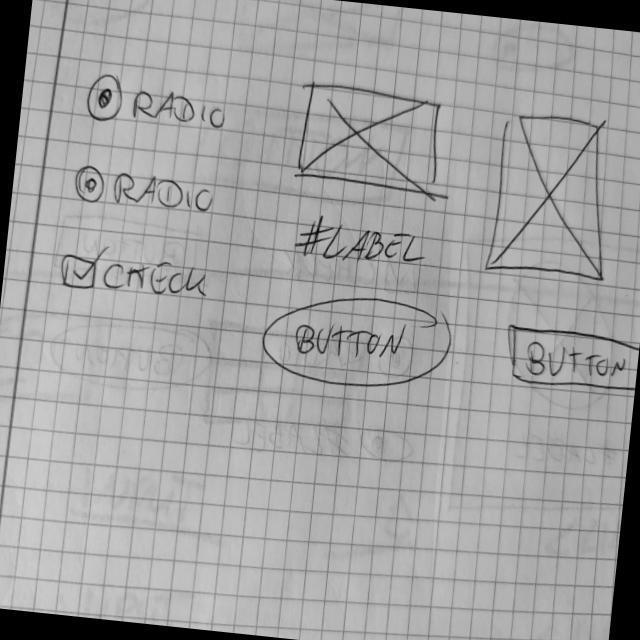checkbox: (60, 247, 214, 306)
image: (486, 109, 624, 286), (294, 78, 451, 200)
label: (294, 211, 431, 274)
radio: (85, 70, 126, 126), (72, 162, 108, 207)
